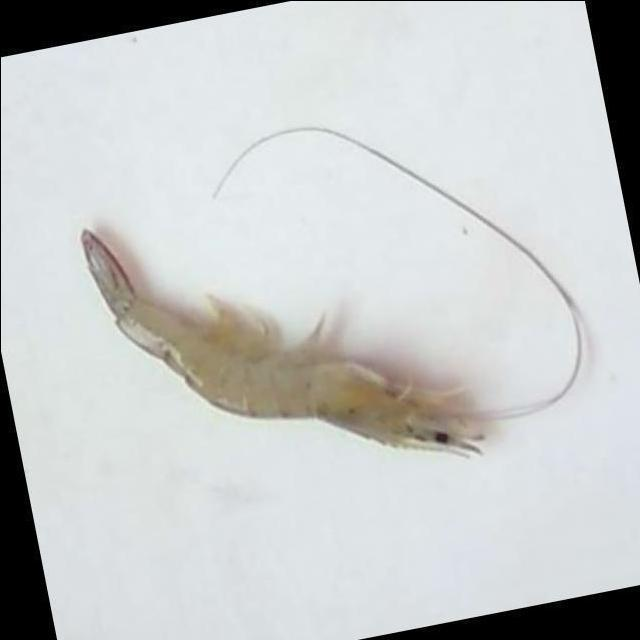shrimp: (79, 229, 482, 458)
